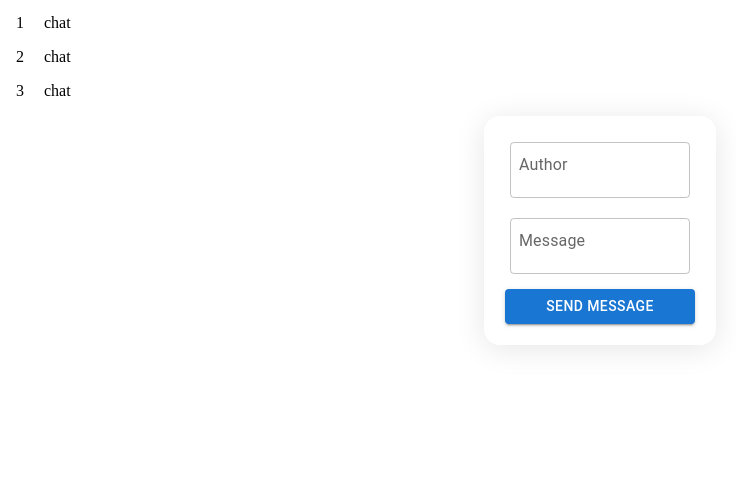
App › check Bots timeout message
Type "Hello from test comp!" into the field with placeholder "Hello" at (600, 246), box [510,218,690,274]
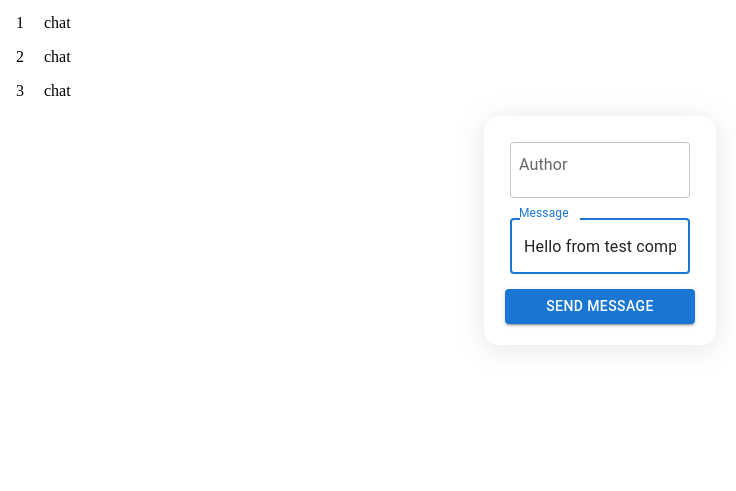
Type "Test timeout!" into the field with placeholder "Ivan" at (600, 170), box [510,142,690,198]
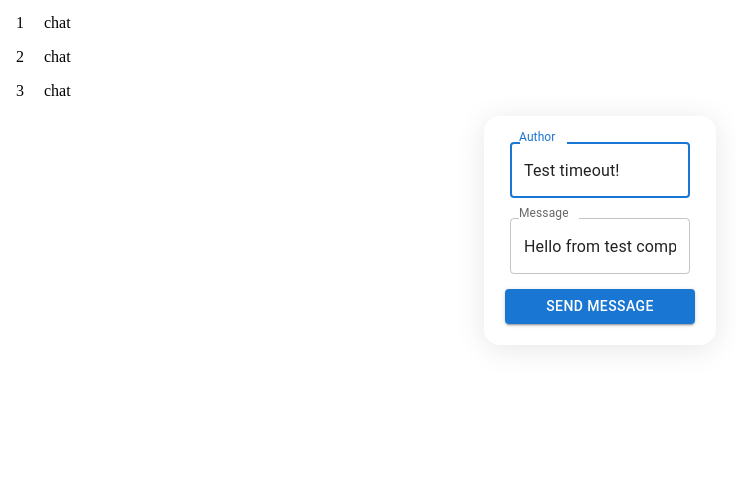
Click the button "Send message" at (600, 306), box [505,289,695,324]
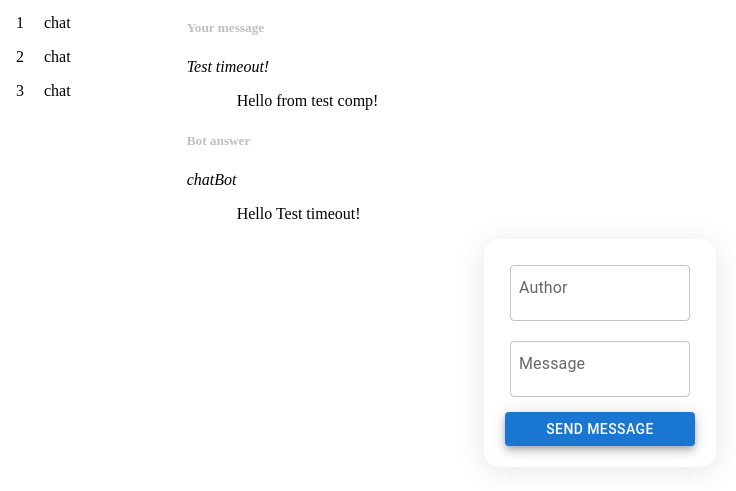
Check: the text "Hello Test timeout!" is shown, box [237,205,361,222]
